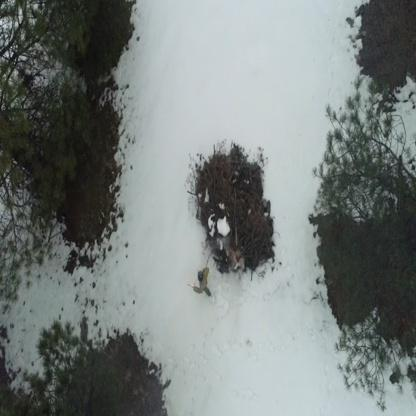Fire: (232, 247, 243, 268)
